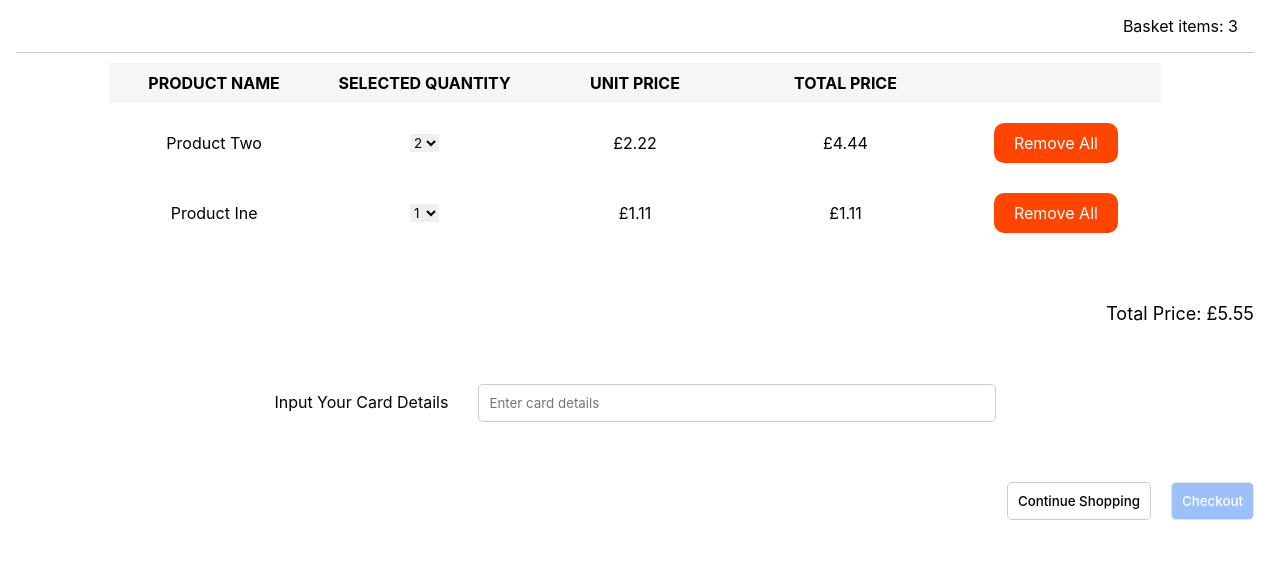
Scenario: Checkout Component › should checkout properly
expect the button "Checkout" is disabled: met, box [1171, 482, 1254, 520]
Type "123456789" into the field with placeholder "Enter card details" at (737,403), box [478, 384, 996, 422]
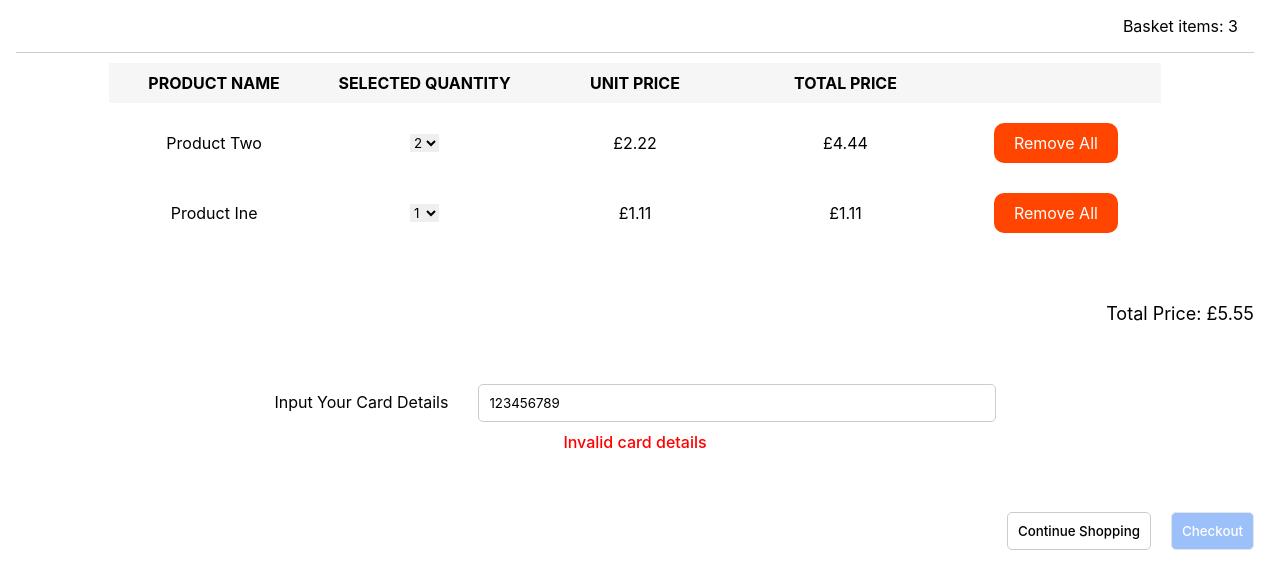
expect the button "Checkout" is disabled: met, box [1171, 512, 1254, 550]
expect the text "Invalid card details" is shown: met, box [563, 432, 707, 452]
Replace the text in the field with placeholder "Enter card details" with "4539456463019519" at (737,403), box [478, 384, 996, 422]
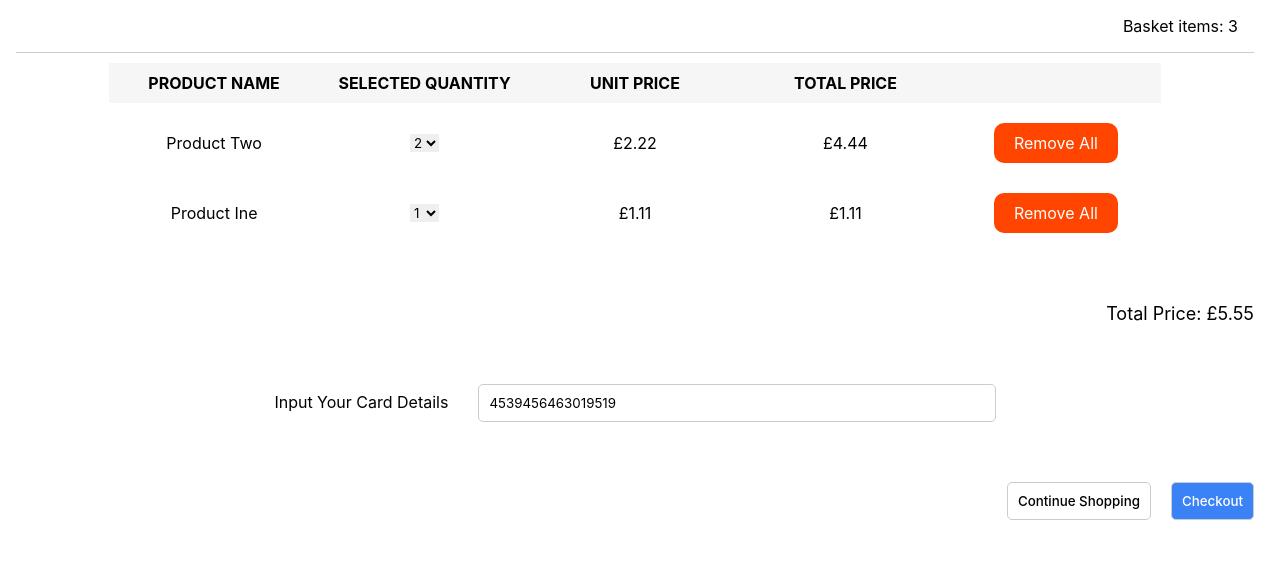
expect the text "Invalid card details" is gone: met
expect the button "Checkout" is enabled: met
Click the button "Checkout" at (1212,501), box [1171, 482, 1254, 520]
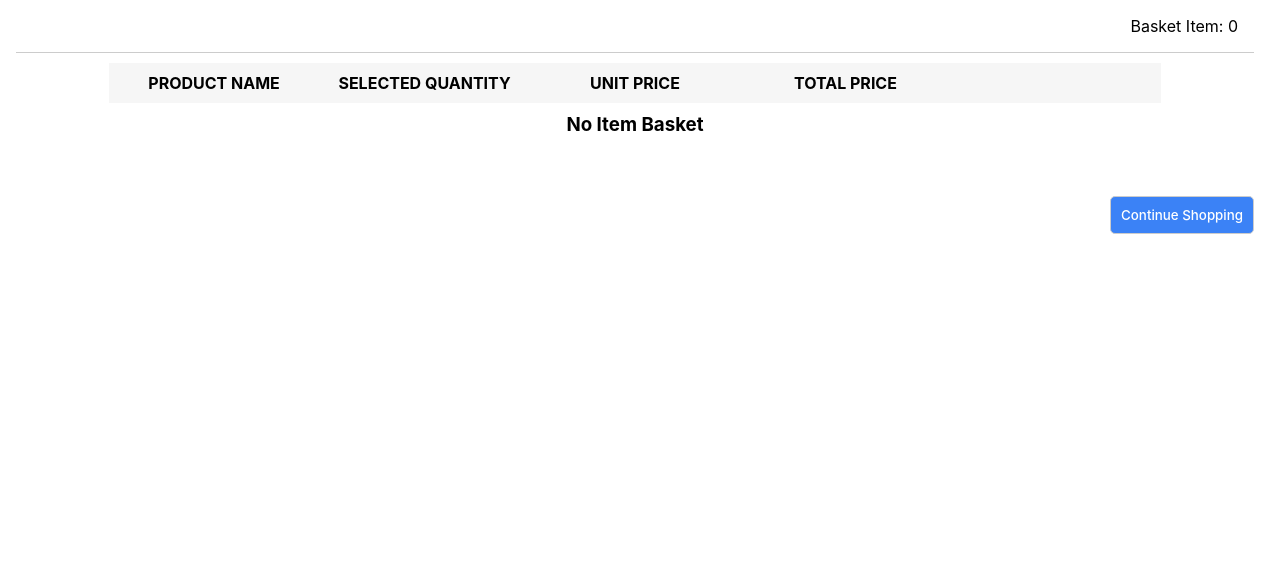
expect the link "Basket Item: 0" is shown: met, box [1130, 16, 1238, 36]
expect the button "Checkout" is gone: met
expect no elements with test id "checkoutProduct" are shown: met
